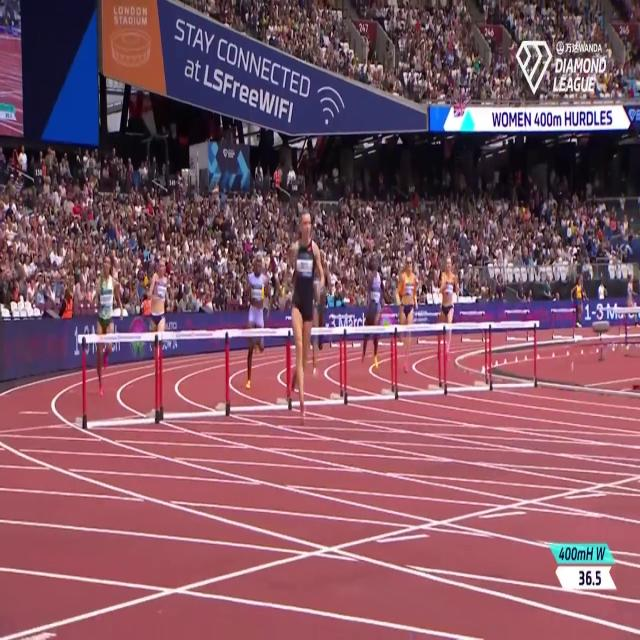athlete: (285, 204, 325, 436), (88, 251, 123, 408), (242, 243, 270, 396), (358, 250, 384, 379), (147, 243, 172, 370), (394, 246, 417, 376), (436, 250, 462, 360)
hurdle: (76, 331, 163, 431), (160, 324, 232, 432), (227, 321, 290, 422), (290, 318, 346, 415), (340, 319, 396, 408), (396, 319, 446, 411), (489, 311, 541, 396), (444, 318, 489, 399)
